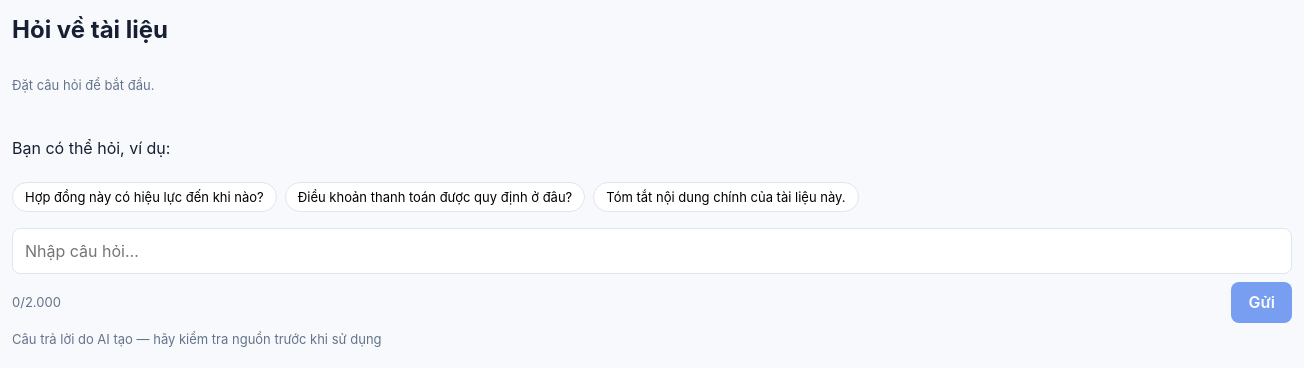
Test: ChatPage › CitationRef [n] không khớp thẻ nguồn nào → chữ thường, không liên kết (IR-03)
This screenshot has width=1304, height=368.
Type "Câu hỏi có trích dẫn không khớp" into the text box with test id "question-input" at (652, 251), box x1=12 y1=228 x2=1292 y2=274
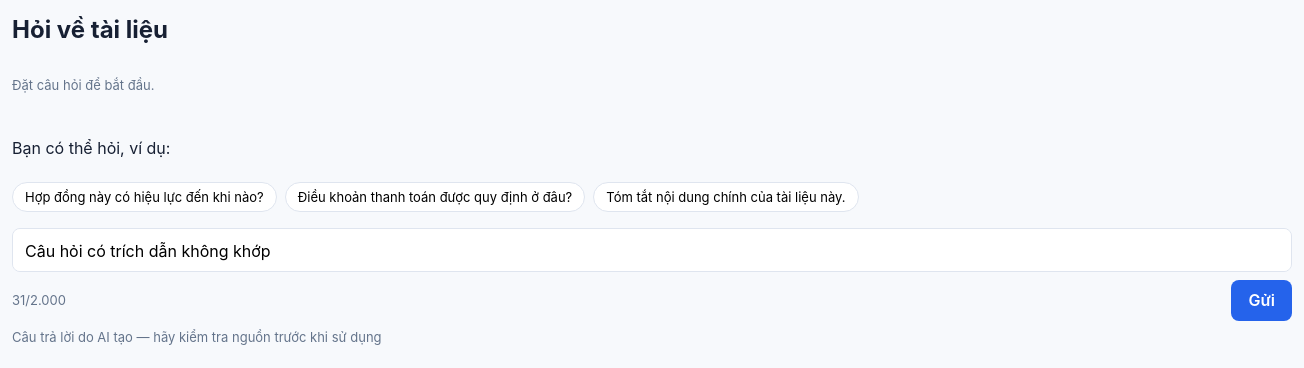
Click the button with test id "send-button" at (1262, 300), box x1=1232 y1=280 x2=1292 y2=321
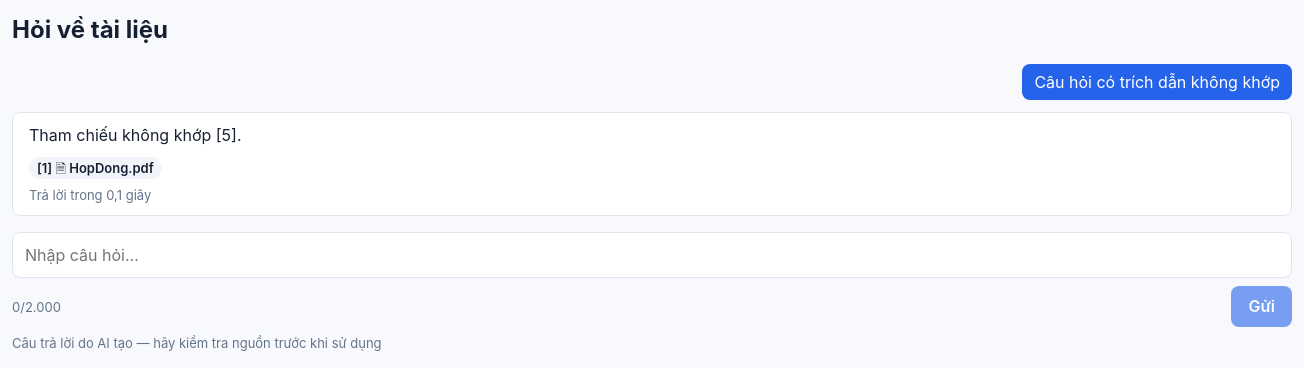
expect the list with test id "citation-list" is shown: met, box x1=29 y1=157 x2=162 y2=179
expect the element with test id "answer-markdown" shows "[5]": met, box x1=29 y1=125 x2=242 y2=145
